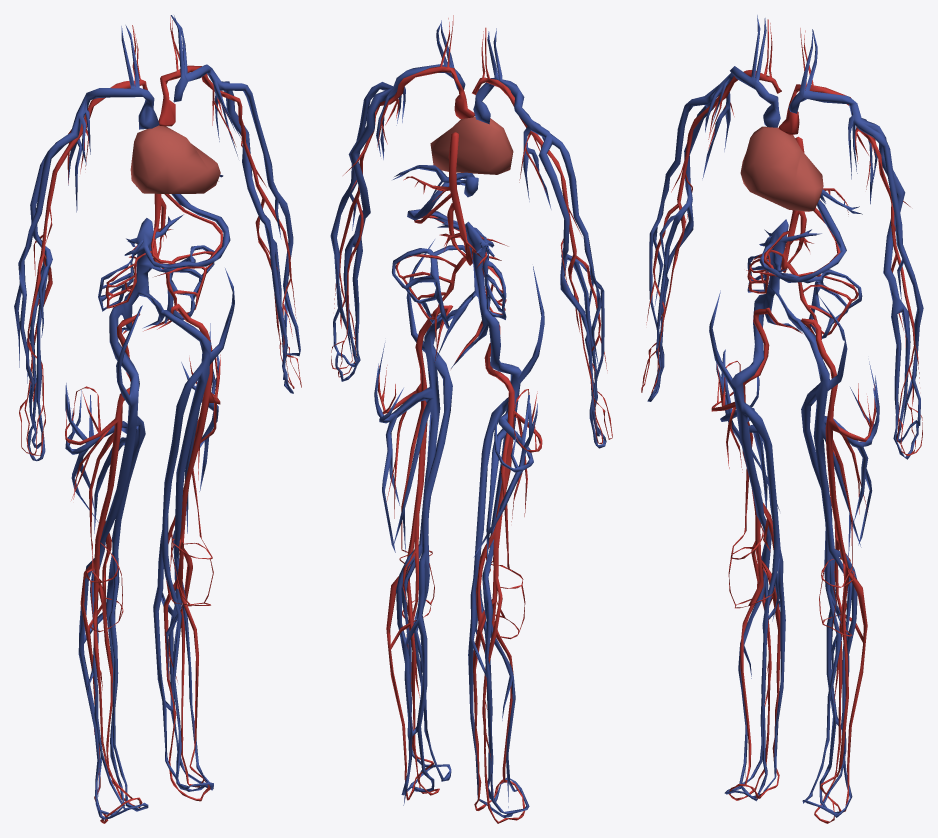
Rendered from pediatric_child_5y_female.cardiovascular.LOD3.glb.
3 views of the same model, side by side, from view 1: azimuth 30°, elevation 25°; view 2: azimuth 150°, elevation 25°; view 3: azimuth 330°, elevation 25° (orthographic).
Visible parts, largest first — view 1: PEDIATRIC.CHILD_5Y.FEMALE.CARDIOVASCULAR.BLOOD_IN_LARGE_VEIN, PEDIATRIC.CHILD_5Y.FEMALE.CARDIOVASCULAR.BLOOD_IN_LARGE_ARTE, PEDIATRIC.CHILD_5Y.FEMALE.CARDIOVASCULAR.HEART_WALL; view 2: PEDIATRIC.CHILD_5Y.FEMALE.CARDIOVASCULAR.BLOOD_IN_LARGE_VEIN, PEDIATRIC.CHILD_5Y.FEMALE.CARDIOVASCULAR.BLOOD_IN_LARGE_ARTE, PEDIATRIC.CHILD_5Y.FEMALE.CARDIOVASCULAR.HEART_WALL; view 3: PEDIATRIC.CHILD_5Y.FEMALE.CARDIOVASCULAR.BLOOD_IN_LARGE_VEIN, PEDIATRIC.CHILD_5Y.FEMALE.CARDIOVASCULAR.BLOOD_IN_LARGE_ARTE, PEDIATRIC.CHILD_5Y.FEMALE.CARDIOVASCULAR.HEART_WALL.
Boxes of the visible parts, x1=… form: PEDIATRIC.CHILD_5Y.FEMALE.CARDIOVASCULAR.BLOOD_IN_LARGE_VEIN: x1=14, y1=15, x2=300, y2=819; PEDIATRIC.CHILD_5Y.FEMALE.CARDIOVASCULAR.BLOOD_IN_LARGE_ARTE: x1=19, y1=16, x2=301, y2=823; PEDIATRIC.CHILD_5Y.FEMALE.CARDIOVASCULAR.HEART_WALL: x1=130, y1=125, x2=220, y2=193; PEDIATRIC.CHILD_5Y.FEMALE.CARDIOVASCULAR.BLOOD_IN_LARGE_VEIN: x1=330, y1=20, x2=606, y2=817; PEDIATRIC.CHILD_5Y.FEMALE.CARDIOVASCULAR.BLOOD_IN_LARGE_ARTE: x1=331, y1=15, x2=612, y2=823; PEDIATRIC.CHILD_5Y.FEMALE.CARDIOVASCULAR.HEART_WALL: x1=430, y1=117, x2=513, y2=174; PEDIATRIC.CHILD_5Y.FEMALE.CARDIOVASCULAR.BLOOD_IN_LARGE_VEIN: x1=647, y1=15, x2=923, y2=817; PEDIATRIC.CHILD_5Y.FEMALE.CARDIOVASCULAR.BLOOD_IN_LARGE_ARTE: x1=641, y1=19, x2=922, y2=823; PEDIATRIC.CHILD_5Y.FEMALE.CARDIOVASCULAR.HEART_WALL: x1=740, y1=126, x2=823, y2=211.
Size of the model in its own units: 0.3474 by 0.9469 by 0.1181.
